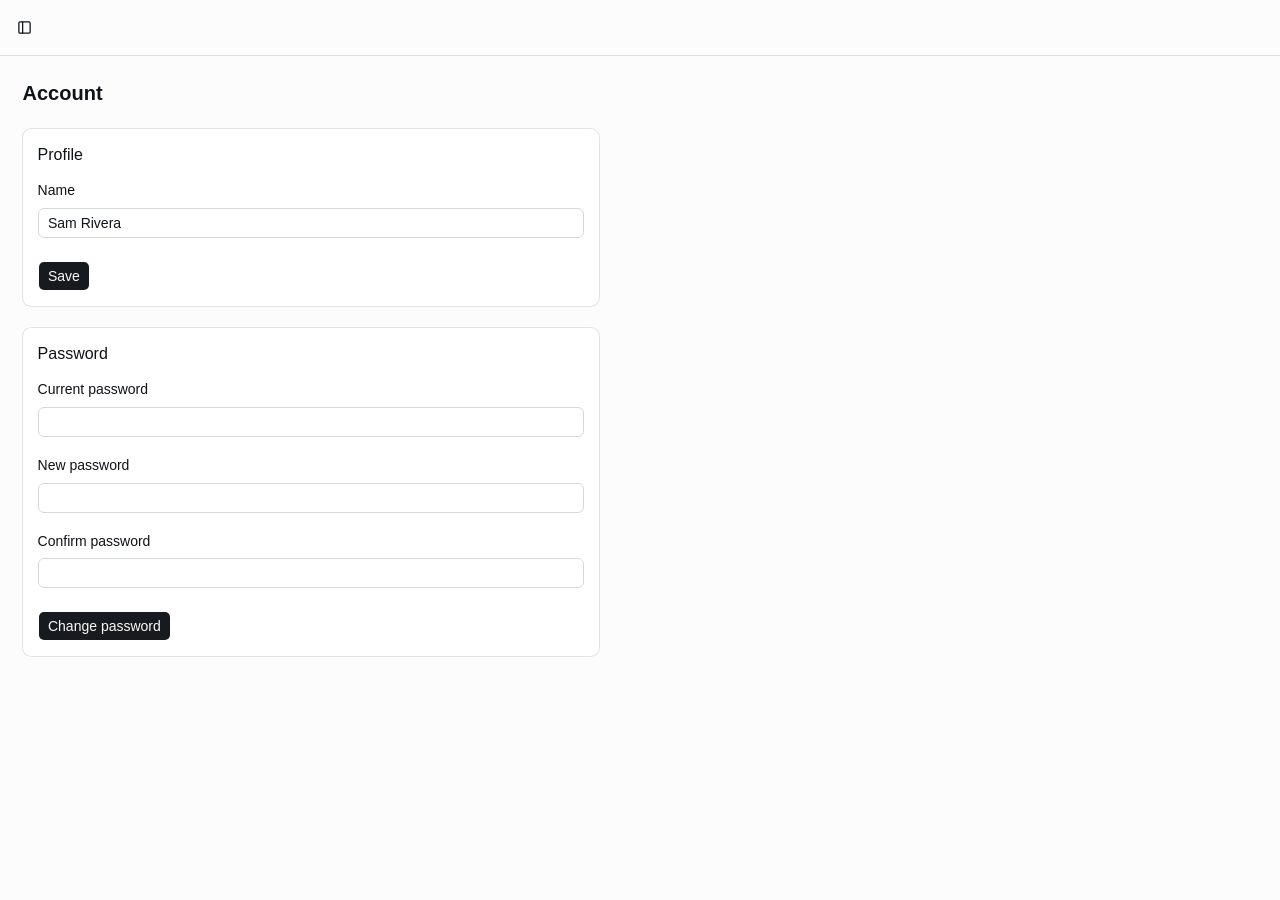
changing the password sends the current and new password
The image size is (1280, 900).
Type "correct horse battery" into the password field labelled "Current password" at point(311, 422), box x1=38 y1=407 x2=584 y2=437
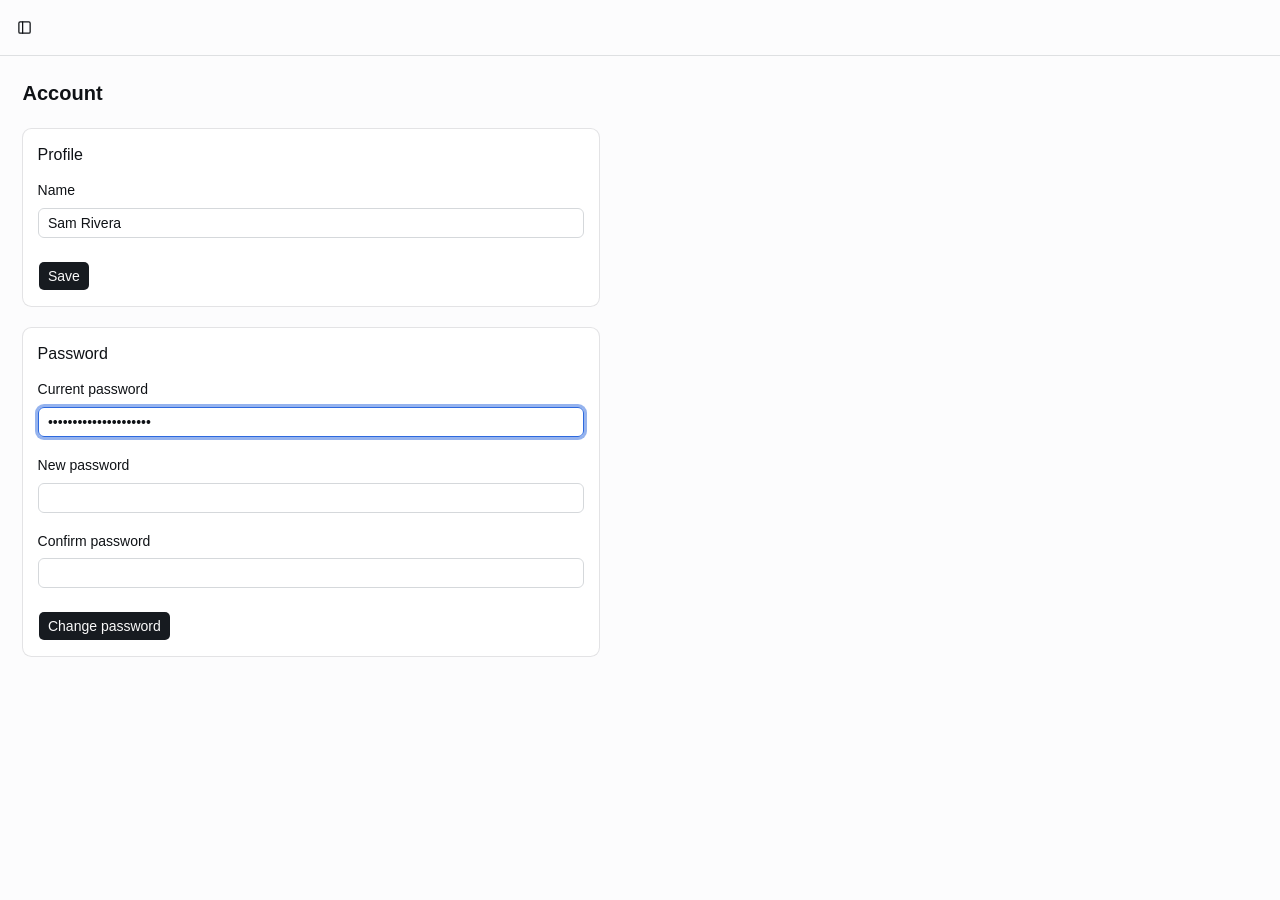
Type "tangerine submarine lighthouse" into the password field labelled "New password" at point(311, 498), box x1=38 y1=483 x2=584 y2=513
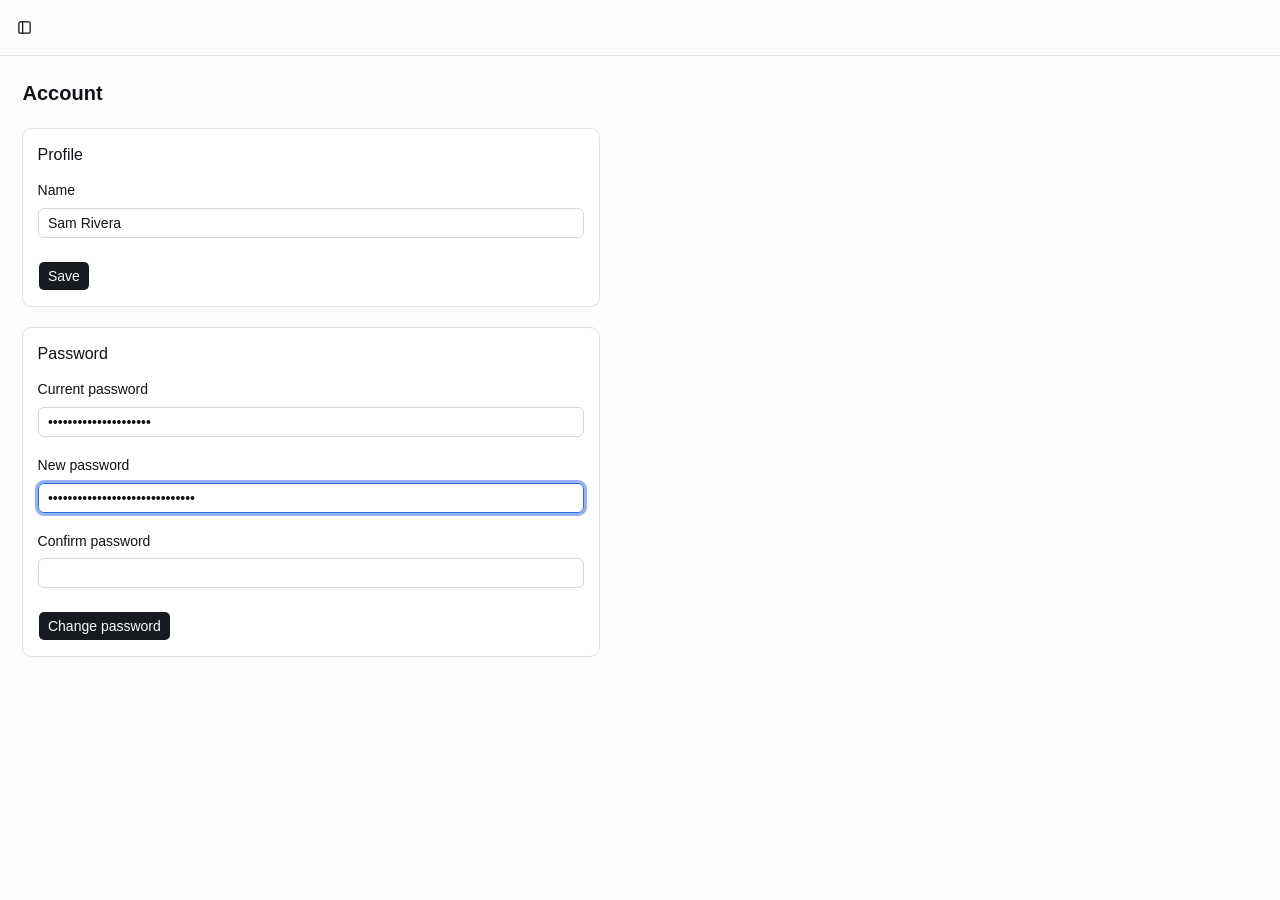
Type "tangerine submarine lighthouse" into the password field labelled "Confirm password" at point(311, 573), box x1=38 y1=558 x2=584 y2=588
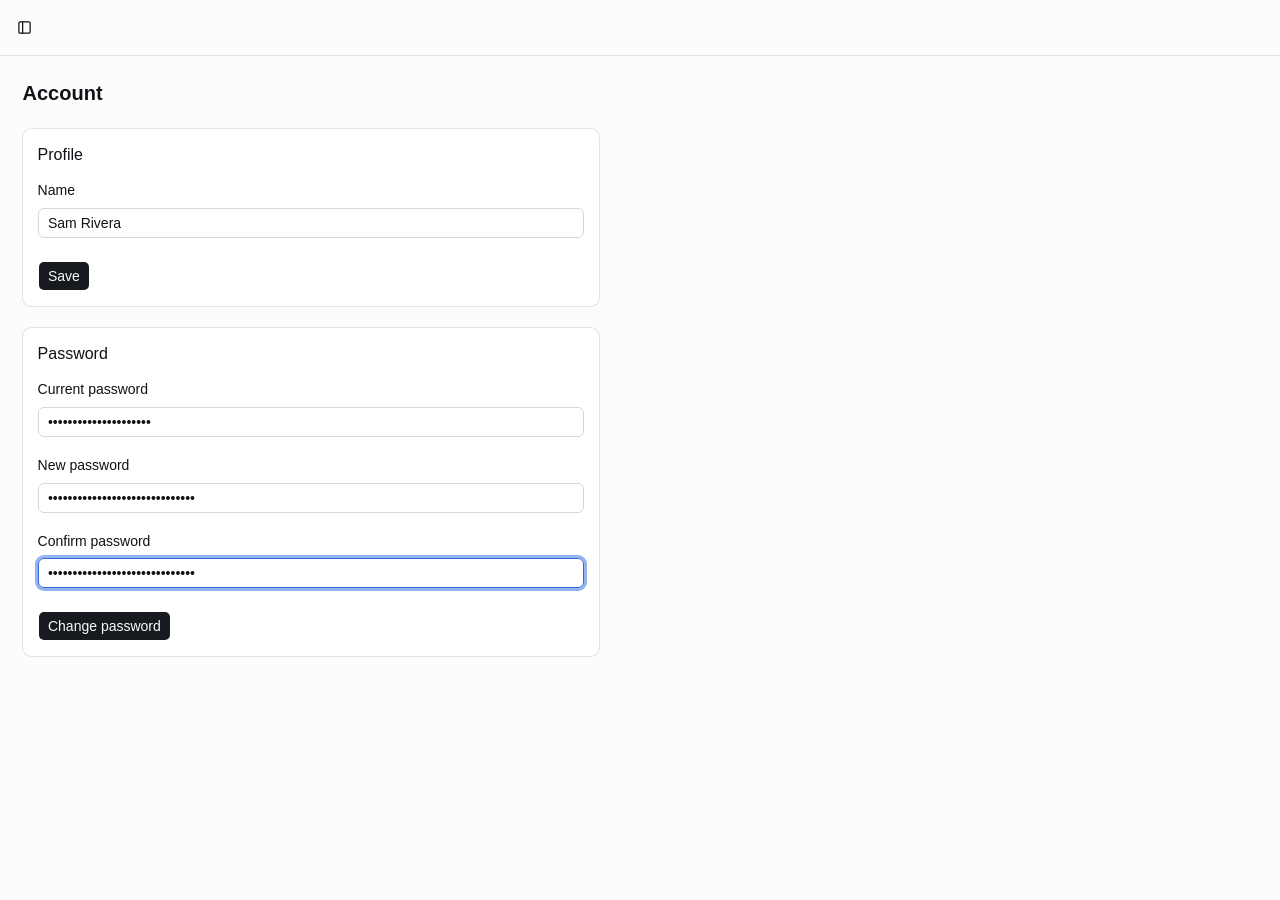
Click the button "Change password" at point(104, 626), box x1=38 y1=611 x2=171 y2=641
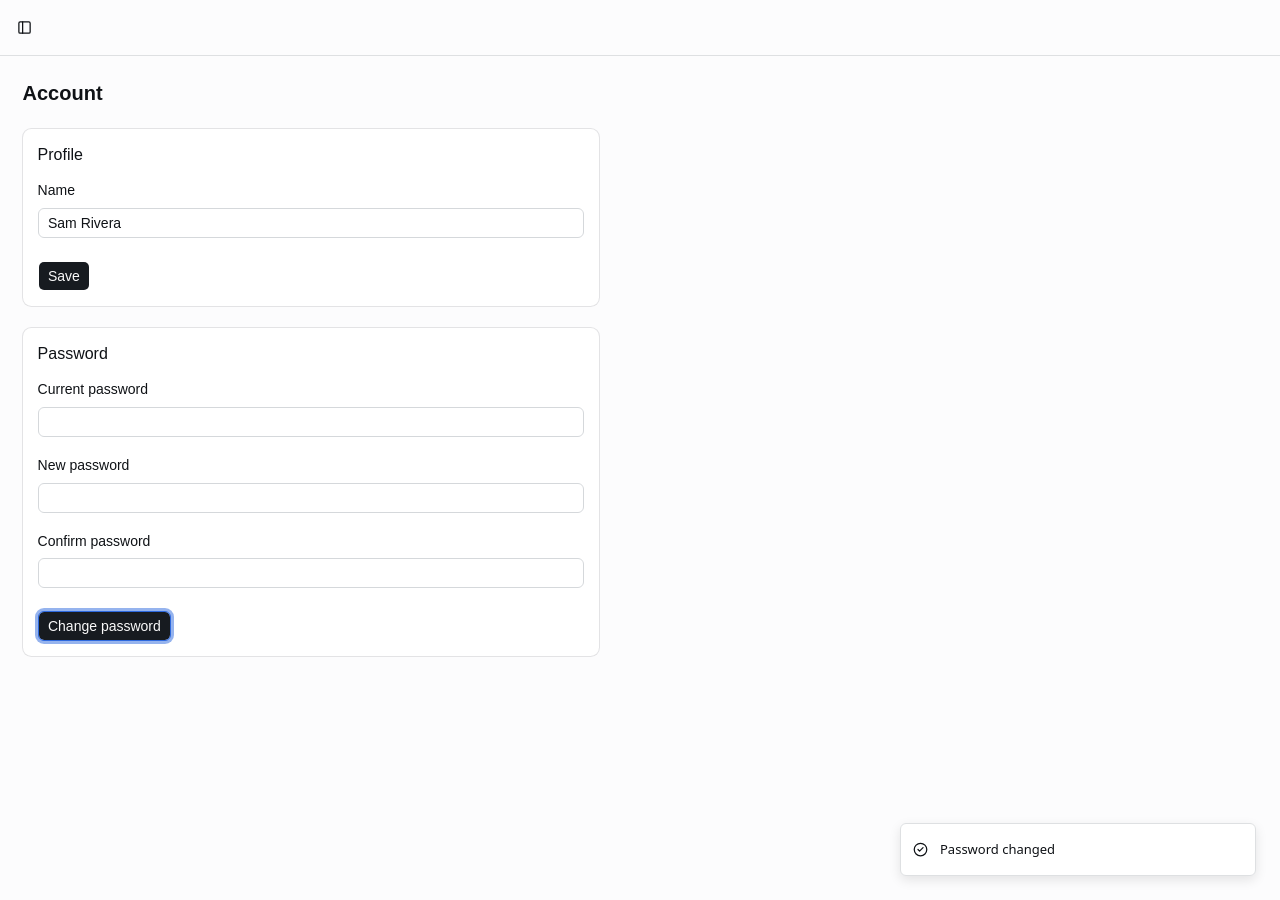
Expected: the text "Password changed" is shown, x1=940 y1=840 x2=1055 y2=859
Expected: the password field labelled "Current password" is empty, x1=38 y1=407 x2=584 y2=437
Expected: the password field labelled "New password" is empty, x1=38 y1=483 x2=584 y2=513
